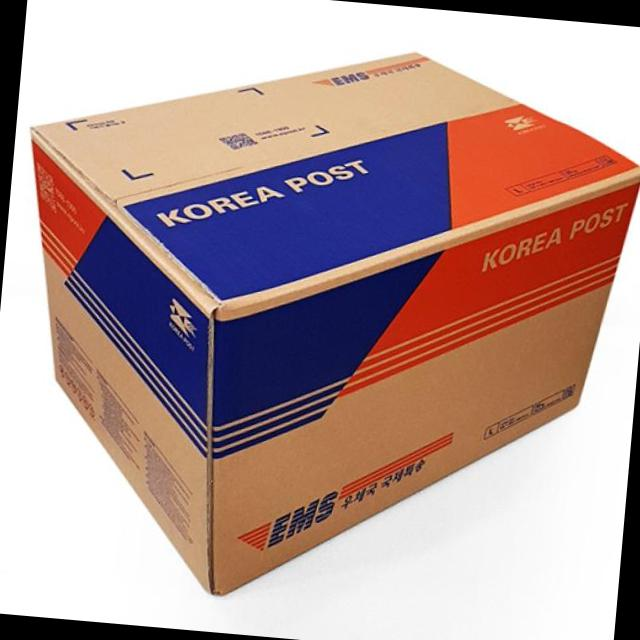box: (29, 51, 640, 595)
